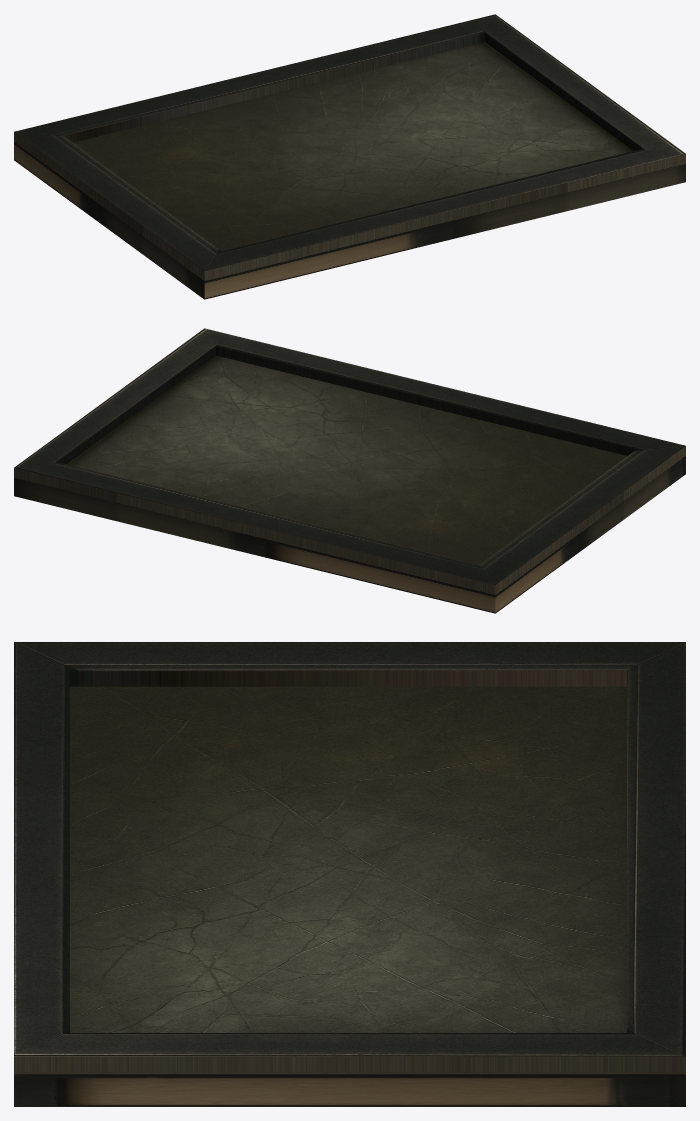
File: yetişkinanı1.fbx
3 renders of one model, top to bottom at view 1: azimuth 30°, elevation 25°; view 2: azimuth 150°, elevation 25°; view 3: azimuth 270°, elevation 25°, orthographic. The views are drawn at different scales.
Parts seen in each view (by area): view 1: Yetişkin Anı 1; view 2: Yetişkin Anı 1; view 3: Yetişkin Anı 1.
Part boxes in pixels (x1,y1,x2,y2): Yetişkin Anı 1: (14,14,685,299); Yetişkin Anı 1: (14,328,685,613); Yetişkin Anı 1: (14,642,685,1106).
Size of the model in its own units: 395 by 22.32 by 270.
